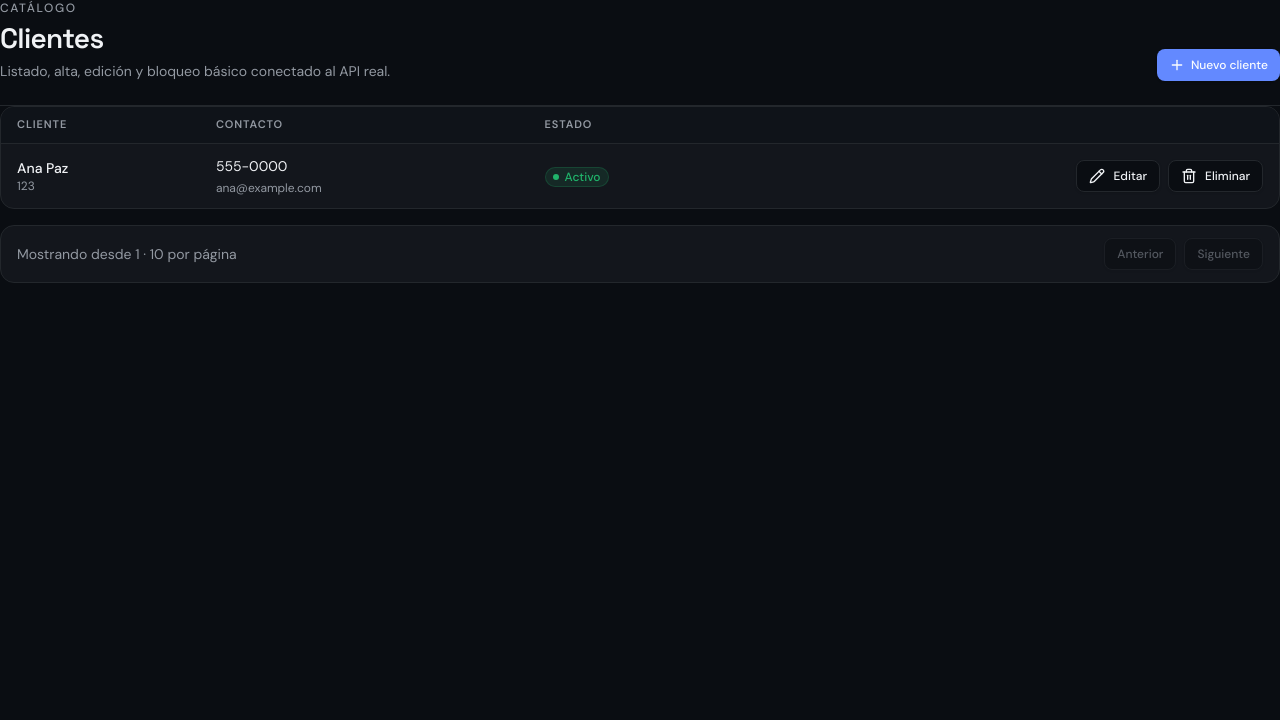
CustomersCrudPage › refreshes the visible customer row after editing a customer
This screenshot has width=1280, height=720.
Expected: the text "Ana Paz" is shown, [17,159,68,177]
Click the button "Editar" at [1118, 176], box [1076,160,1160,192]
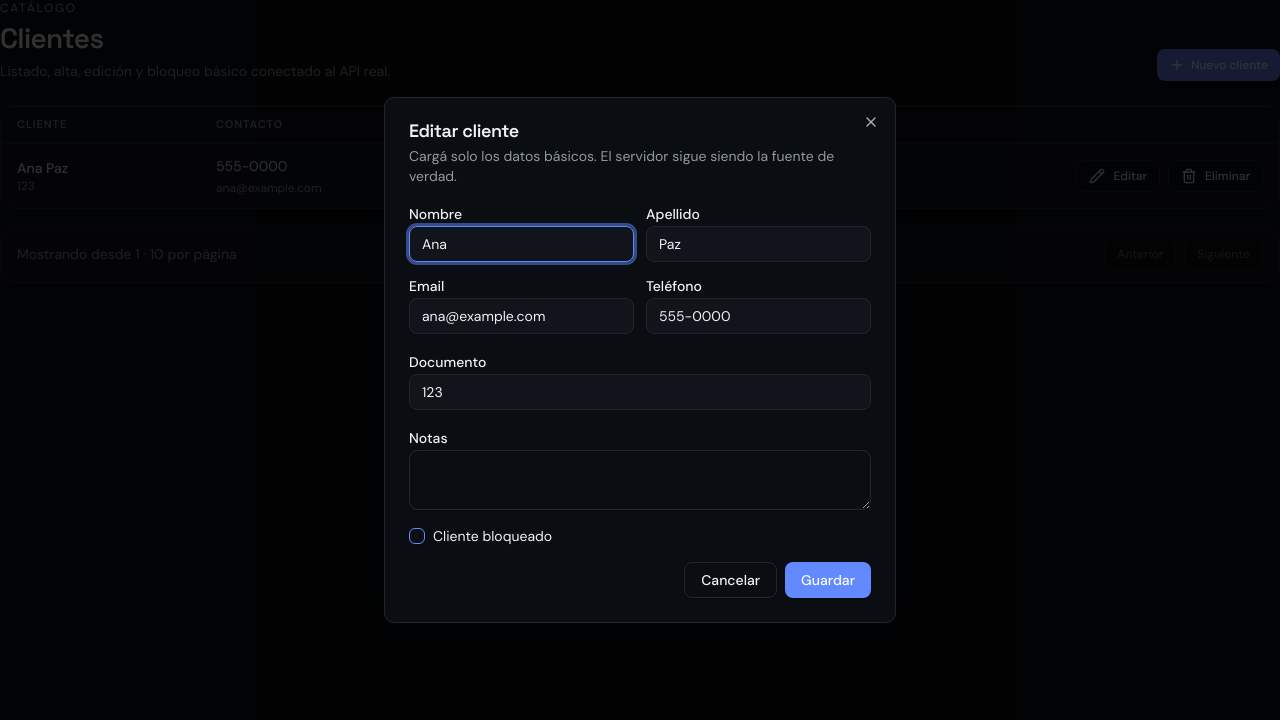
Replace the text in the field labelled "Apellido" with "García" at [758, 244], box [646,226,871,262]
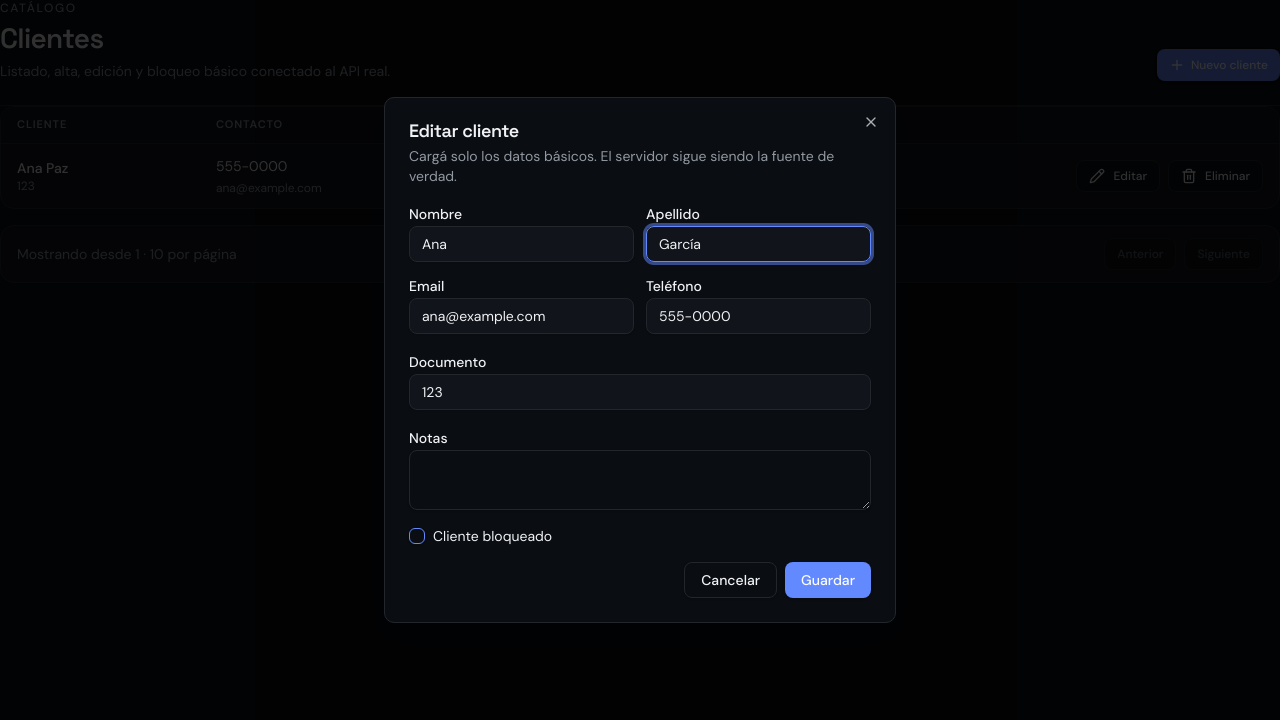
Click the button "Guardar" at [828, 580], box [785,562,871,598]
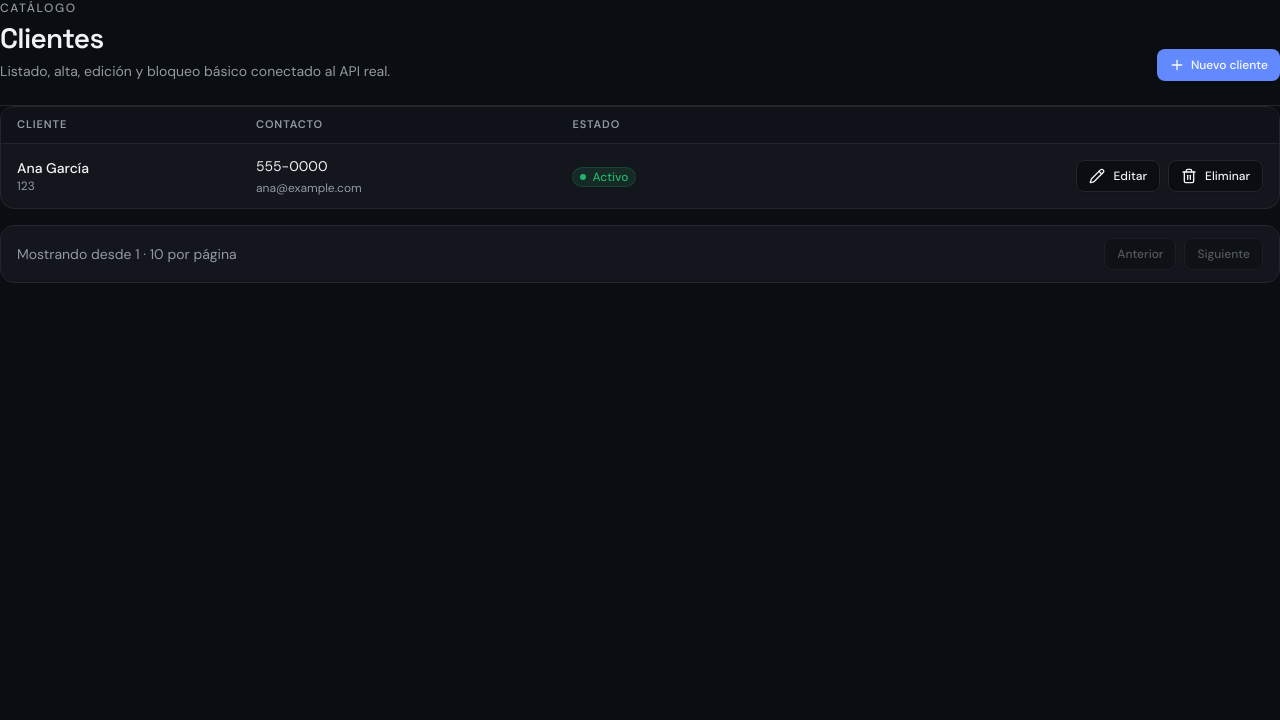
Expected: the text "Ana García" is shown, [17,159,89,177]
